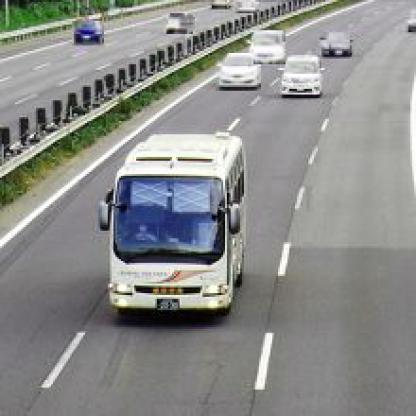bus: (101, 130, 258, 323)
car: (216, 54, 264, 94), (281, 58, 324, 97), (255, 31, 289, 67), (321, 31, 353, 60), (73, 22, 107, 48), (164, 14, 196, 37), (234, 3, 258, 14)
